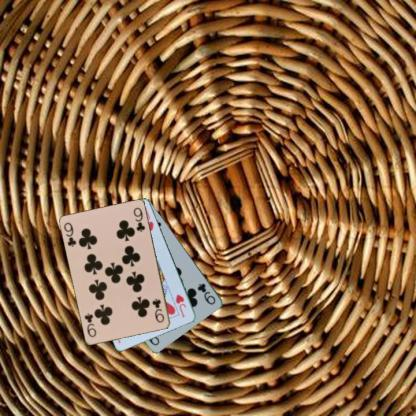9c: (195, 281, 217, 306), (61, 220, 78, 249), (150, 296, 166, 324)
Jh: (174, 292, 188, 318)
